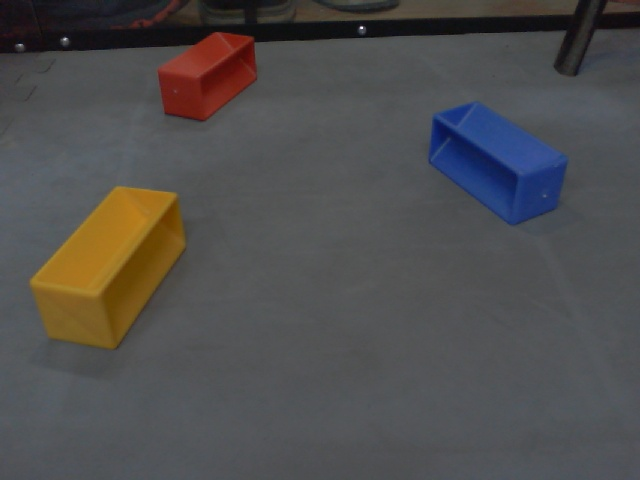BlueSample: (427, 101, 571, 229)
RedSample: (158, 27, 261, 123)
YellowSample: (23, 182, 187, 352)
